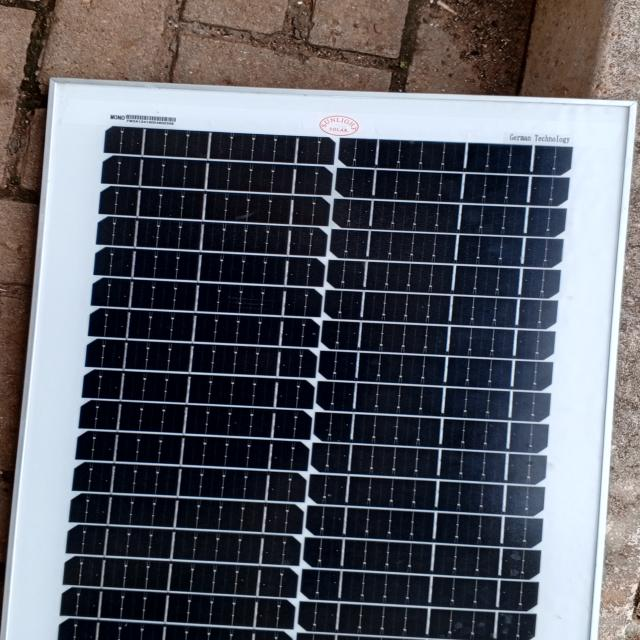Clean: (53, 115, 583, 640)
